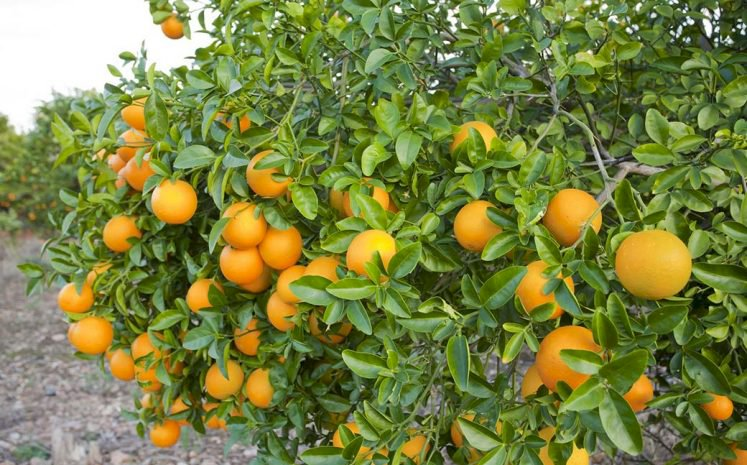portakal: (615, 215, 707, 329), (522, 325, 632, 398), (335, 223, 426, 299), (438, 189, 514, 274), (542, 174, 606, 260), (234, 146, 311, 210), (435, 109, 509, 174), (92, 210, 149, 257), (150, 181, 200, 230), (694, 376, 738, 431), (247, 364, 295, 413), (59, 315, 117, 354), (217, 243, 265, 288), (152, 10, 200, 51), (145, 419, 184, 454)
